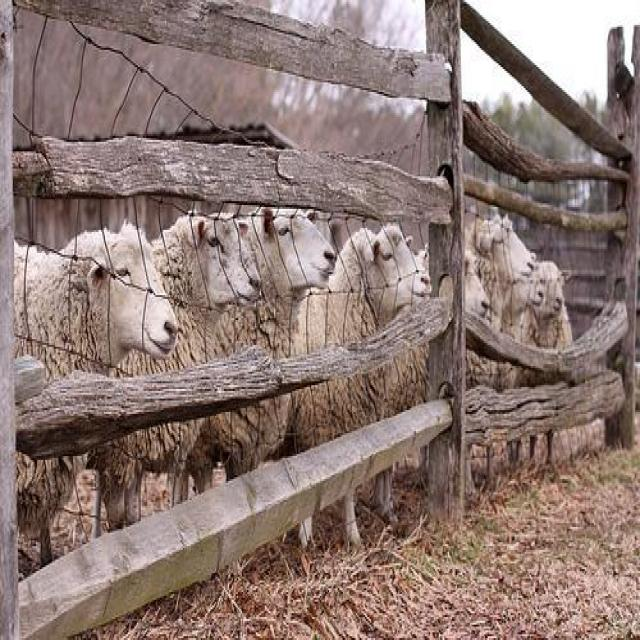Sheep: (90, 209, 264, 533), (13, 217, 174, 567), (190, 197, 336, 489), (292, 230, 432, 454), (416, 247, 492, 320), (464, 214, 536, 286), (502, 256, 545, 351)
